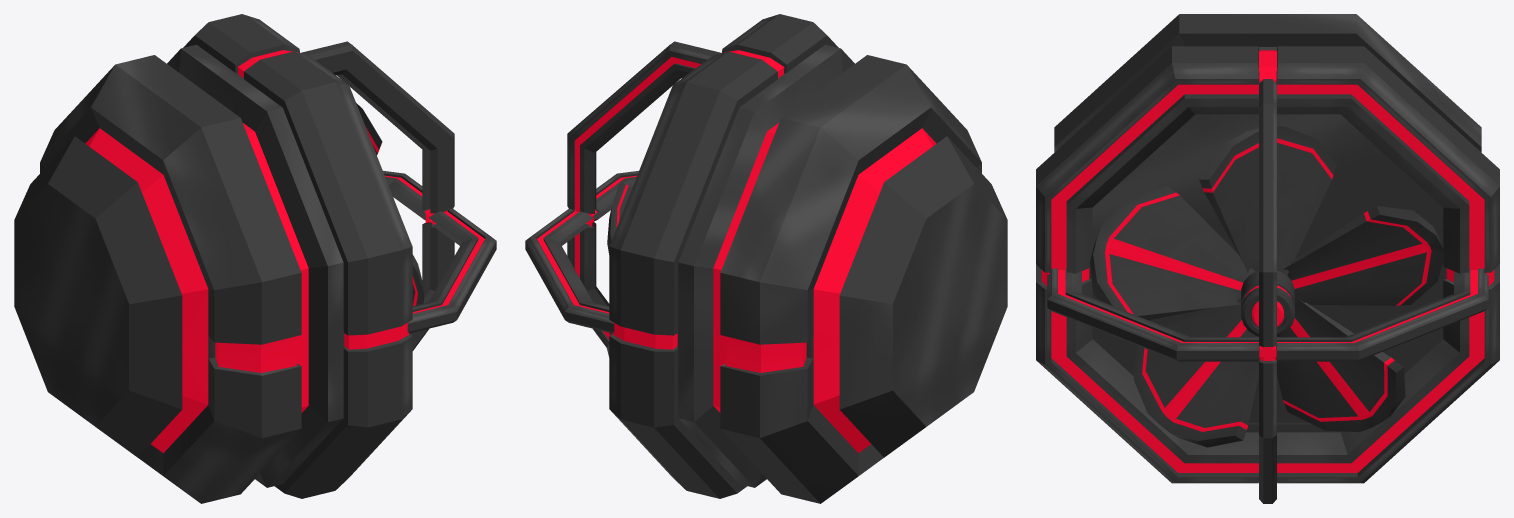
Rendered from fan ver3.fbx.
3 renders of one model, left to right at view 1: azimuth 30°, elevation 25°; view 2: azimuth 150°, elevation 25°; view 3: azimuth 270°, elevation 25°, orthographic. The views are drawn at different scales.
Parts seen in each view (by area): view 1: pCylinder1, fan_body, fan_body2, fan_body1, feather; view 2: pCylinder1, fan_body, fan_body2, fan_body1, feather; view 3: fan_body, feather, pCylinder1, fan_body1, fan_body2.
Boxes of the visible parts, x1=… form: pCylinder1: x1=14, y1=44, x2=344, y2=503; fan_body: x1=183, y1=14, x2=412, y2=498; fan_body2: x1=300, y1=41, x2=454, y2=350; fan_body1: x1=383, y1=171, x2=496, y2=333; feather: x1=356, y1=103, x2=424, y2=305; pCylinder1: x1=677, y1=44, x2=1007, y2=503; fan_body: x1=609, y1=14, x2=838, y2=498; fan_body2: x1=567, y1=41, x2=721, y2=347; fan_body1: x1=525, y1=171, x2=638, y2=333; feather: x1=607, y1=181, x2=632, y2=357; fan_body: x1=1036, y1=46, x2=1499, y2=483; feather: x1=1090, y1=126, x2=1444, y2=447; pCylinder1: x1=1054, y1=14, x2=1481, y2=422; fan_body1: x1=1047, y1=268, x2=1488, y2=361; fan_body2: x1=1259, y1=79, x2=1276, y2=503.
Bounding box in the file's own units: 16.4 × 16.82 × 16.82.
